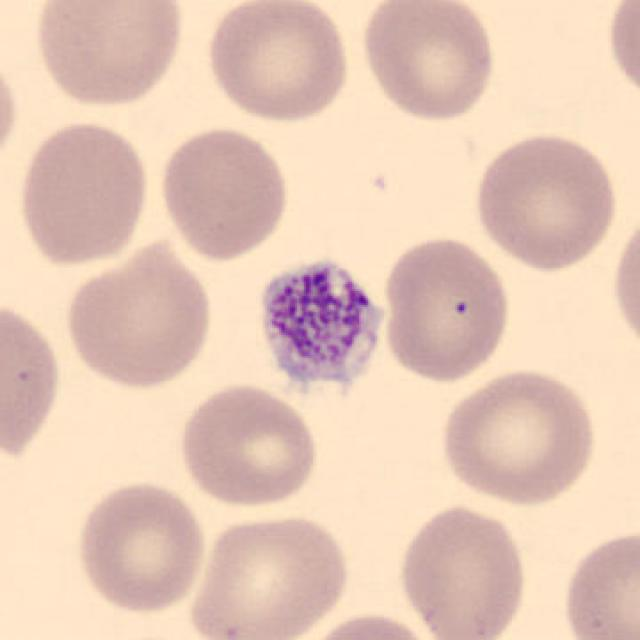Platelets: (247, 247, 391, 407)
RBC: (59, 236, 217, 392), (436, 363, 602, 508), (470, 127, 622, 273), (185, 509, 354, 640), (12, 116, 154, 270), (378, 233, 516, 386), (71, 476, 210, 617), (174, 379, 322, 511), (392, 500, 531, 640), (155, 123, 293, 263), (201, 0, 355, 125), (28, 0, 188, 111), (357, 0, 501, 123), (0, 293, 66, 467), (556, 523, 639, 640), (608, 206, 640, 360), (291, 610, 441, 640), (602, 0, 640, 109), (0, 48, 23, 176)
